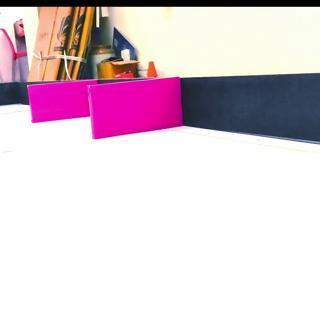xparking: (91, 83, 181, 132), (28, 81, 88, 120)
